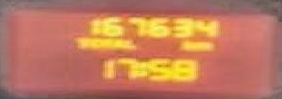1: (98, 58, 113, 79), (84, 16, 98, 36)
3: (169, 15, 191, 38)
4: (191, 18, 218, 37)
5: (144, 57, 169, 81)
6: (147, 14, 169, 37), (98, 16, 122, 37)
7: (113, 55, 133, 79), (122, 16, 144, 37)
8: (169, 58, 198, 80)
X: (191, 41, 213, 51), (73, 35, 87, 48), (86, 37, 100, 48), (178, 38, 191, 49), (136, 60, 145, 75), (111, 38, 122, 49), (122, 38, 133, 49), (100, 38, 111, 47)
